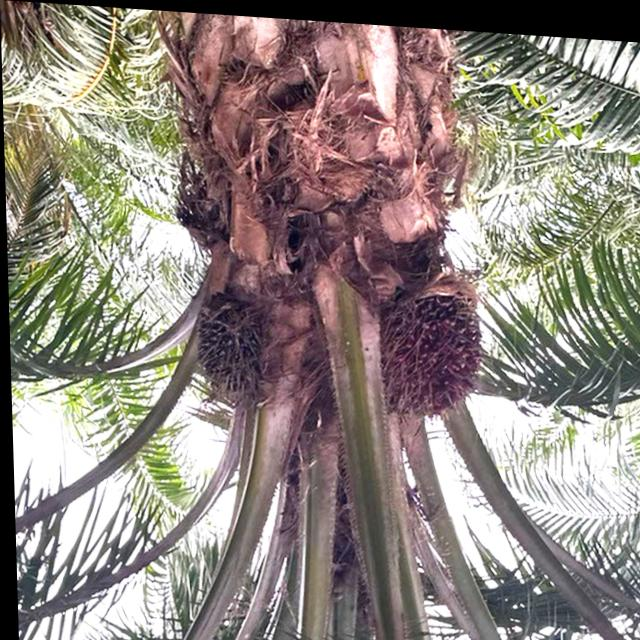ripe: (365, 269, 494, 428)
